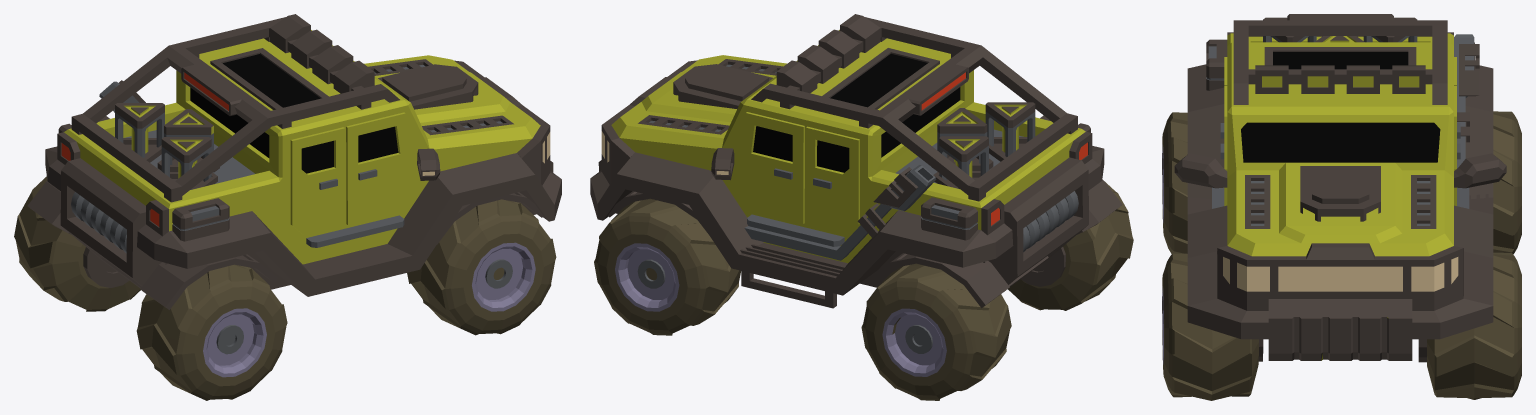
The model's file is sizuka.glb.
3 renders of one model, left to right at view 1: azimuth 30°, elevation 25°; view 2: azimuth 150°, elevation 25°; view 3: azimuth 270°, elevation 25°, orthographic. The views are drawn at different scales.
Visible parts, largest first — view 1: chasis, wheel.BR, wheel.FR, wheel.BL; view 2: chasis, wheel.BL, wheel.FL, wheel.BR; view 3: chasis, wheel.FL, wheel.FR, wheel.BL, wheel.BR.
Boxes of the visible parts, x1,y1,x2,y2 form: chasis: [27, 14, 561, 309]; wheel.BR: [136, 264, 287, 400]; wheel.FR: [407, 199, 556, 335]; wheel.BL: [14, 176, 140, 311]; chasis: [590, 14, 1122, 308]; wheel.BL: [861, 263, 1011, 400]; wheel.FL: [594, 198, 740, 335]; wheel.BR: [1008, 181, 1133, 310]; chasis: [1174, 14, 1506, 362]; wheel.FL: [1427, 252, 1521, 399]; wheel.FR: [1162, 253, 1258, 400]; wheel.BL: [1493, 111, 1521, 254]; wheel.BR: [1162, 112, 1187, 253].
Bounding box in the file's own units: 3.03 × 1.75 × 2.05.
2 materials, 2 textured.
